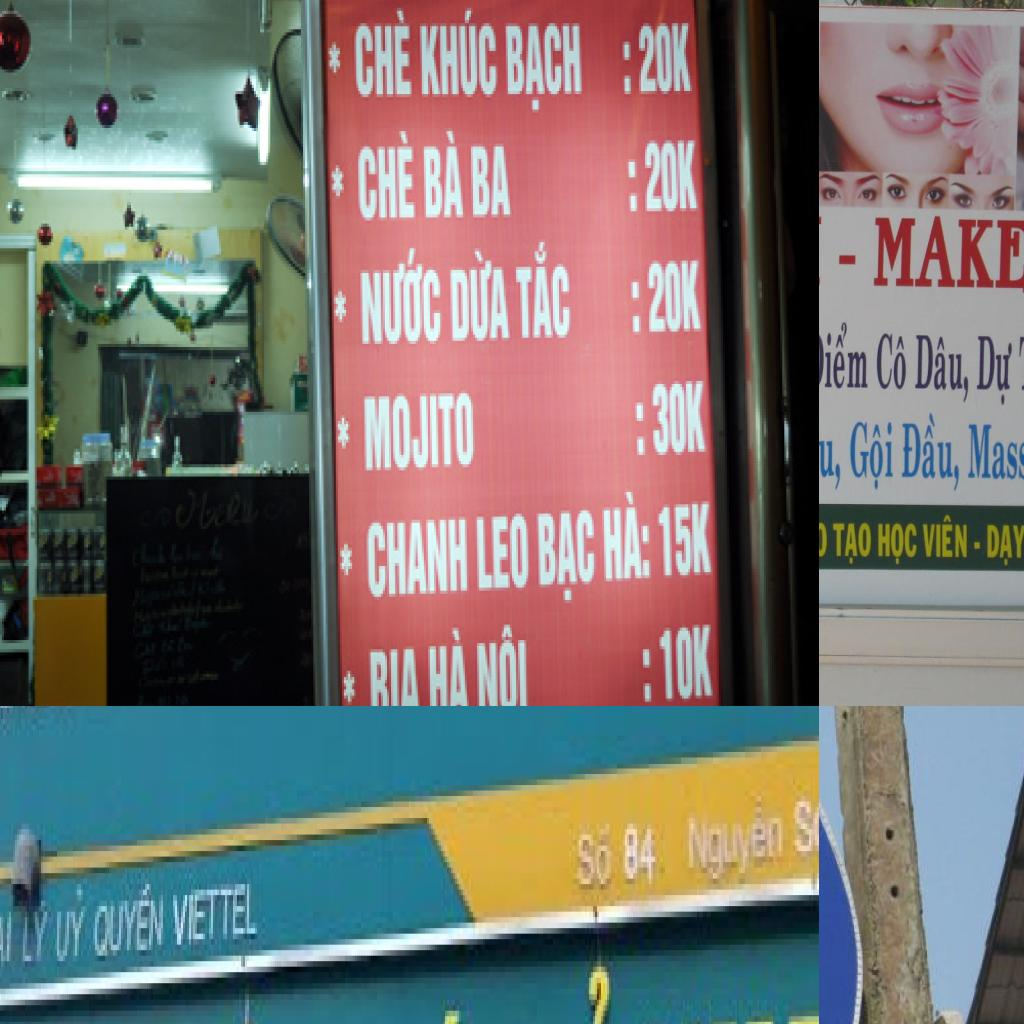text: (872, 216, 1024, 295), (687, 791, 787, 906), (358, 390, 480, 474), (363, 510, 475, 600), (354, 239, 444, 350), (504, 20, 588, 116), (418, 5, 500, 100), (93, 868, 169, 966), (169, 878, 263, 956), (444, 242, 514, 344), (352, 122, 418, 224), (514, 239, 573, 344), (539, 504, 598, 609), (600, 482, 655, 590), (473, 507, 534, 600), (533, 961, 623, 1024), (354, 5, 414, 97), (657, 495, 715, 585), (655, 621, 716, 706), (649, 375, 709, 461), (472, 621, 532, 706), (900, 409, 960, 494), (643, 254, 702, 338), (639, 134, 700, 214), (631, 20, 694, 97), (358, 636, 427, 706), (967, 421, 1024, 498), (422, 125, 465, 224), (912, 333, 970, 405), (424, 618, 469, 706), (848, 414, 895, 498), (573, 807, 615, 901), (819, 315, 869, 389), (467, 144, 514, 220), (53, 878, 91, 966), (621, 812, 659, 900), (976, 334, 1014, 408), (19, 890, 51, 972), (921, 512, 968, 560), (793, 790, 819, 867), (819, 409, 843, 492), (876, 521, 918, 567), (876, 332, 908, 390), (832, 520, 872, 565), (985, 523, 1024, 568), (636, 640, 657, 706), (0, 906, 15, 983), (618, 42, 637, 100), (622, 156, 641, 214), (337, 664, 362, 706), (633, 396, 649, 461), (336, 538, 356, 588), (326, 36, 348, 78), (334, 409, 354, 455), (328, 159, 348, 202), (629, 276, 643, 335), (332, 288, 352, 326), (819, 512, 830, 556), (17, 706, 51, 718)
